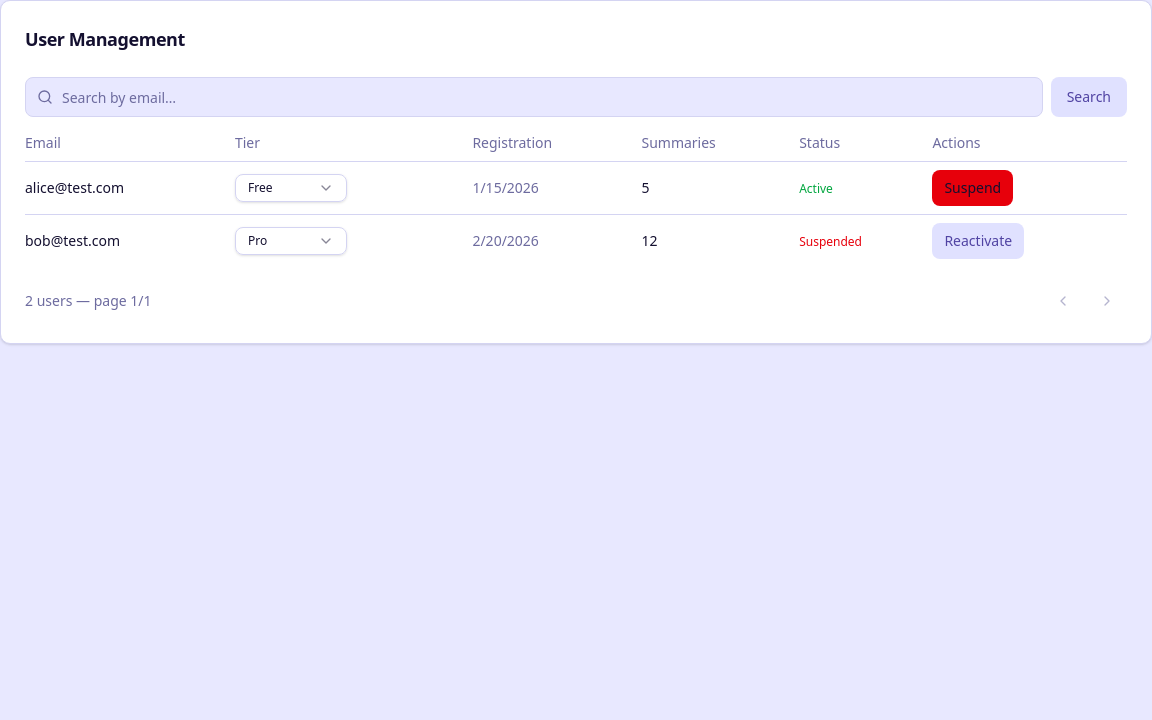
AdminUsersTable › opens confirmation dialog when suspend button is clicked
Click the button "Suspend". click: (973, 188)
box: [932, 170, 1013, 206]
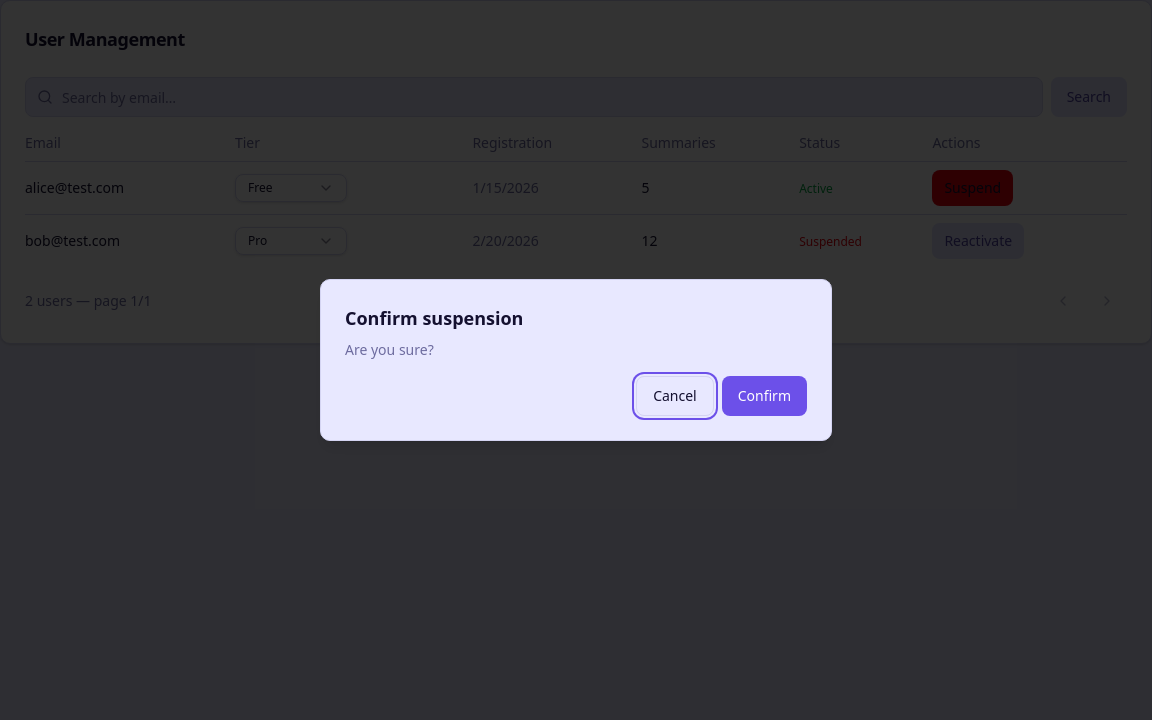
Expected: the heading "Confirm suspension" is shown, [345, 306, 523, 330]
Expected: the text "Are you sure?" is shown, [345, 340, 434, 359]
